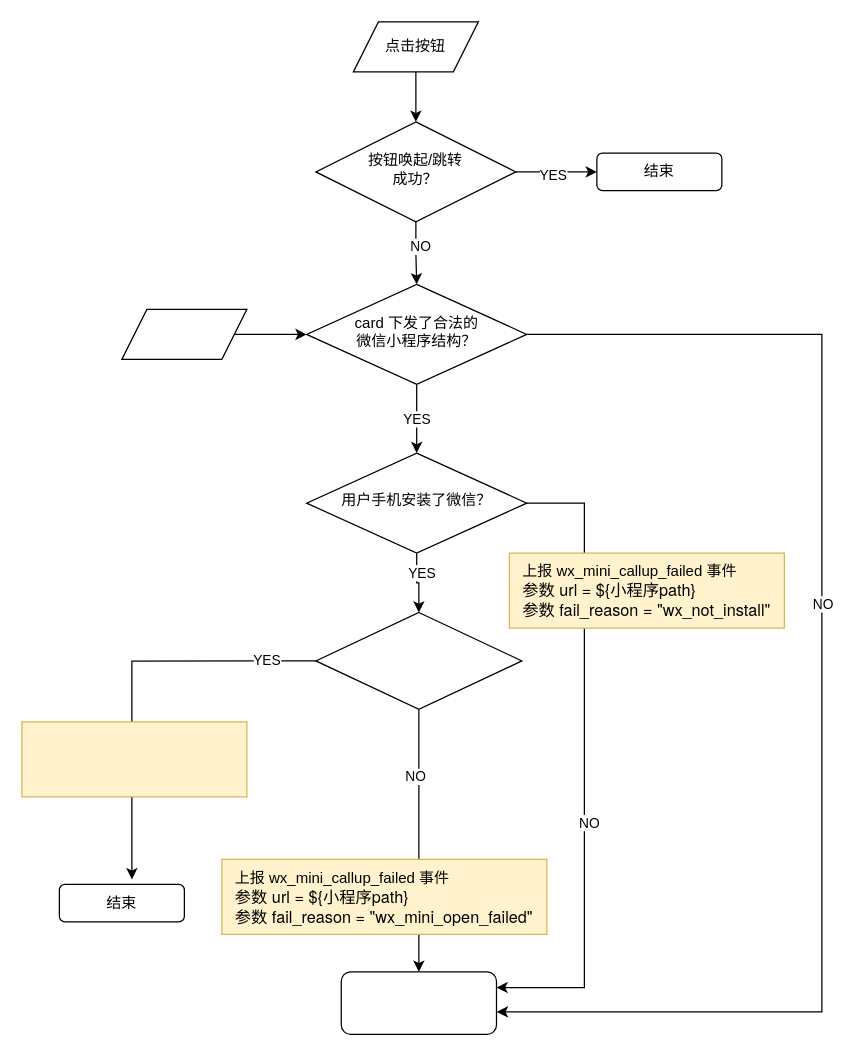
The diagram is 855 pixels wide and 1056 high, and some of its shapes have lost their labels. The centre of each missing label's shape, as x and y in pixels:
"上报 wx_mini_callup_suc 事件 参数 url = ${小程序path}" goes at point (134, 759).
"尝试打开小程序 打开成功？" goes at point (418, 660).
"点击卡片" goes at point (184, 333).
"降级到 卡片唤起/跳转逻辑" goes at point (418, 1002).
